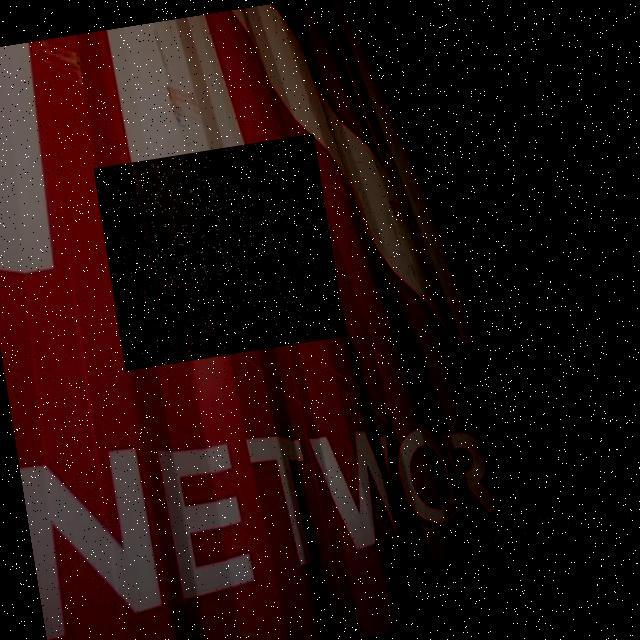Minor-Dent: (94, 134, 346, 371)
